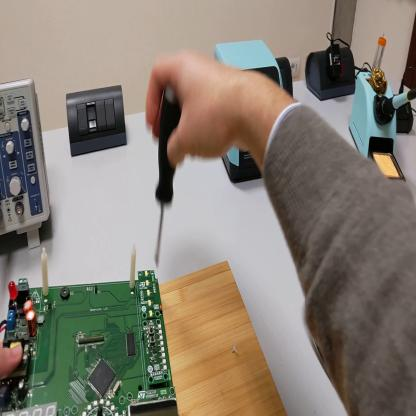hand: (145, 51, 248, 171), (2, 339, 25, 377)
low voltage board: (1, 246, 180, 416)
oscilloscope: (2, 84, 53, 250)
screwdriver-: (156, 98, 181, 265)
socket: (306, 46, 358, 101), (276, 57, 293, 98), (396, 103, 412, 133)
welder base: (350, 67, 406, 184)
welder probe tip: (377, 84, 413, 126)
welder station: (215, 40, 287, 186)
working area: (161, 263, 287, 416)
